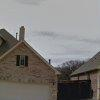Chimney: (15, 19, 28, 48)
